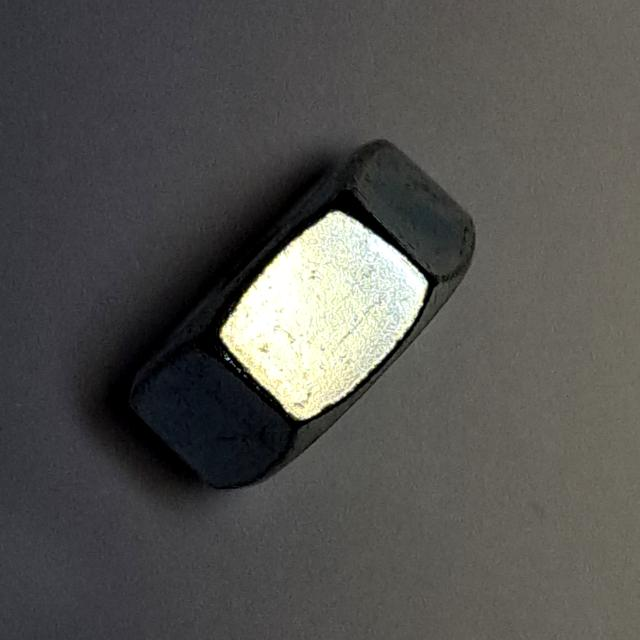Side_Excellent: (113, 124, 494, 502)
